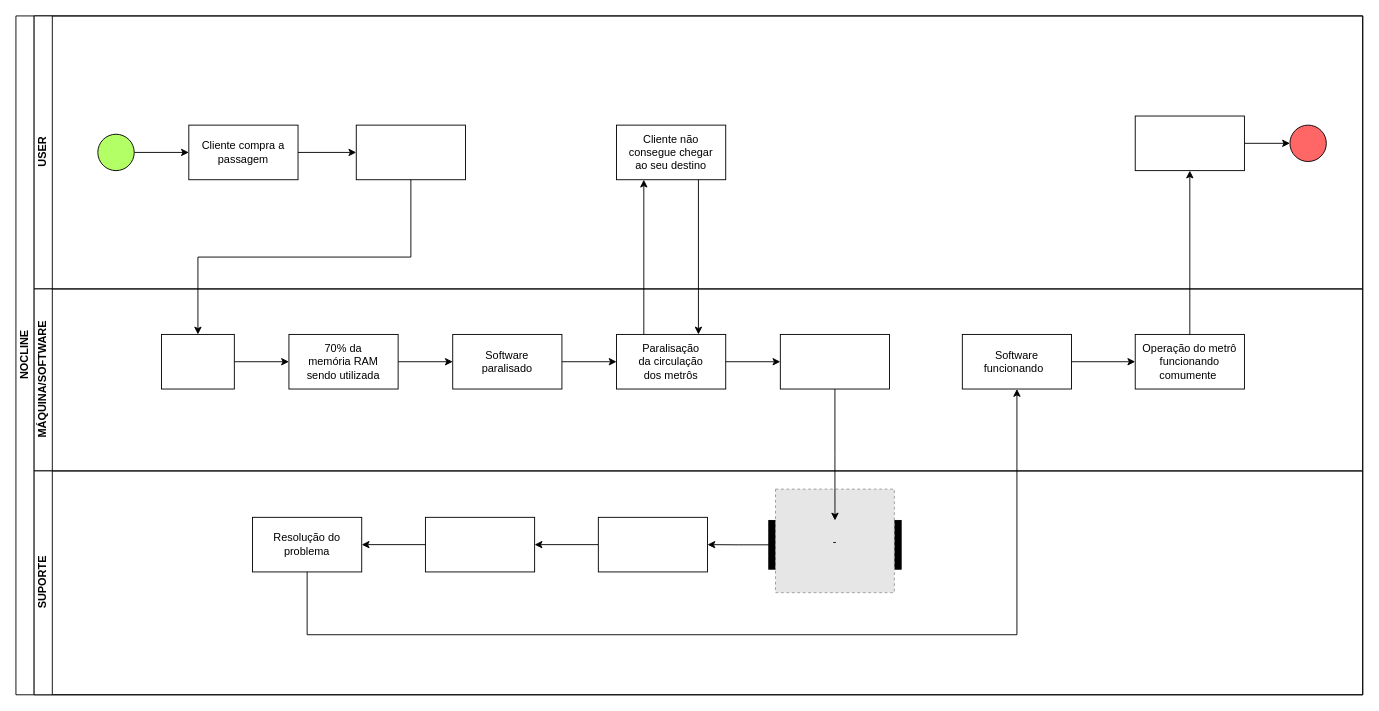
The diagram is 1379 pixels wide and 711 high, and some of its shapes have lost their labels. Grey dashed boxes stand in for pictures. The shapes that lost their labels are listed below. From the top down, each one's centre as x and y in pixels, then its label:
At (x=410, y=152): "Cliente faz o uso do metrô".
At (x=1189, y=143): "Cliente chega ao seu destino".
At (x=197, y=361): "Máquina rodando o Software".
At (x=834, y=361): "Comunicação do problema para o suporte".
At (x=480, y=544): "Visualização do problema".
At (x=652, y=544): "Identificação do problema".
